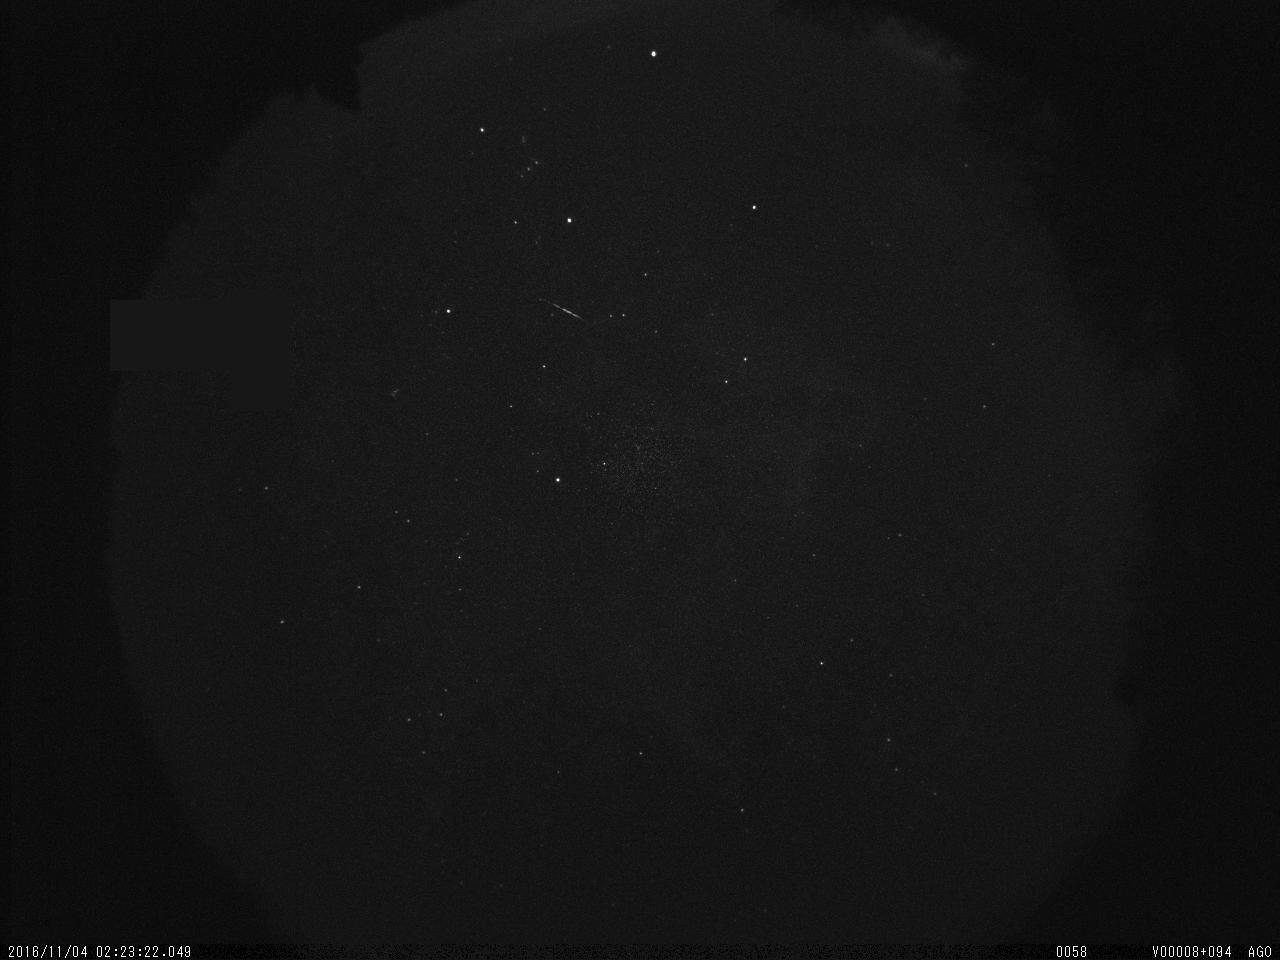meteor: (530, 293, 591, 329)
